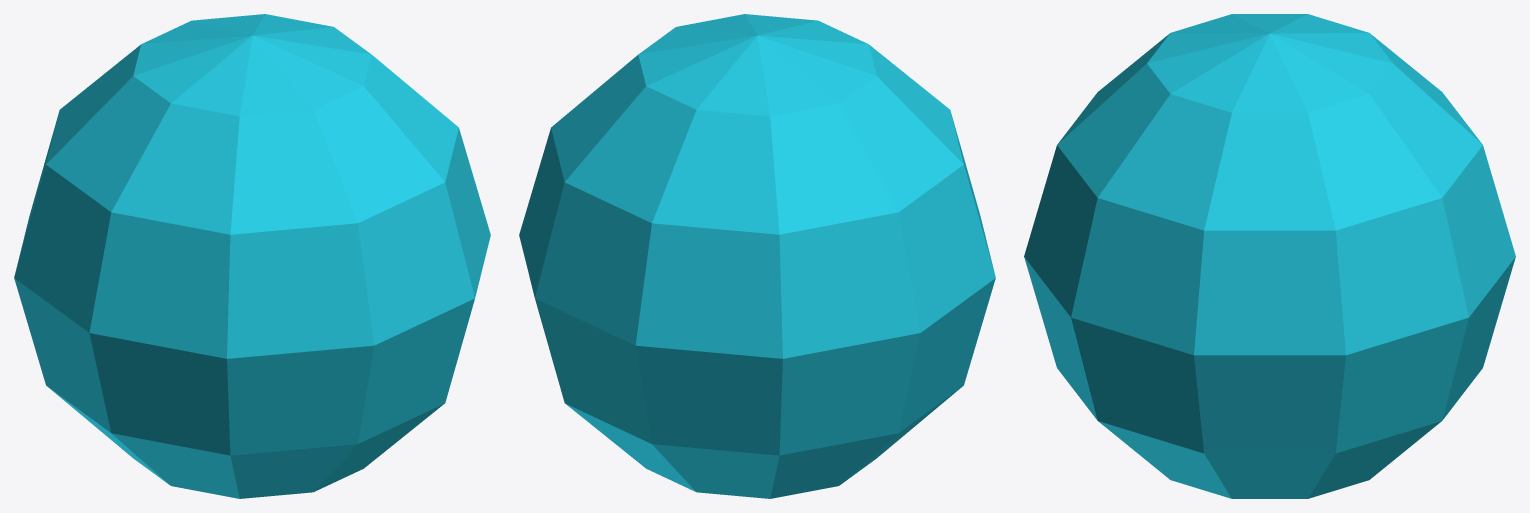
The model's file is Skill.fbx.
3 views of the same model, side by side, from view 1: azimuth 30°, elevation 25°; view 2: azimuth 150°, elevation 25°; view 3: azimuth 270°, elevation 25° (orthographic).
Visible parts, largest first — view 1: Sphere; view 2: Sphere; view 3: Sphere.
Part boxes in pixels (x1=…): Sphere: x1=14, y1=14, x2=490, y2=498; Sphere: x1=519, y1=14, x2=995, y2=498; Sphere: x1=1024, y1=14, x2=1515, y2=498.
Size of the model in its own units: 190 by 200 by 200.
